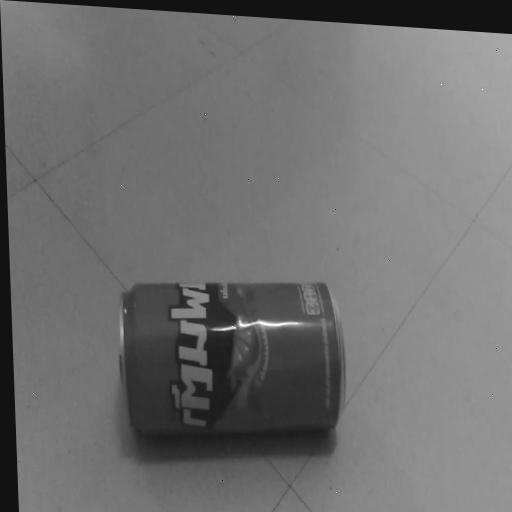canned: (104, 260, 361, 474)
